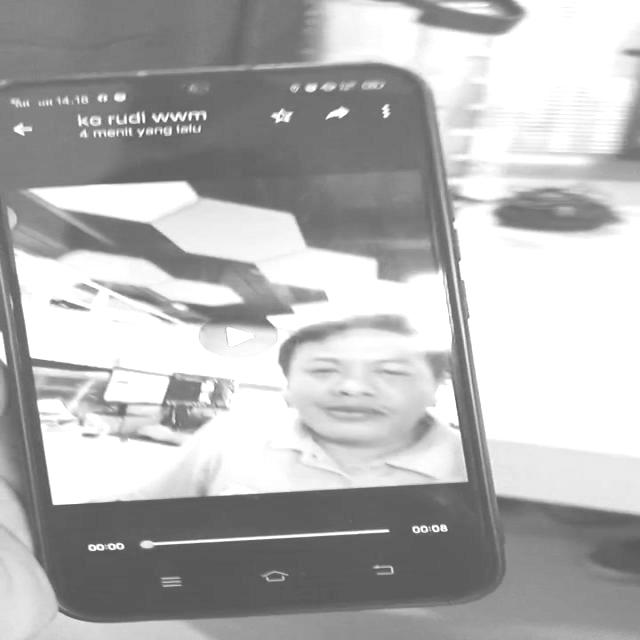fake: (0, 54, 513, 626)
